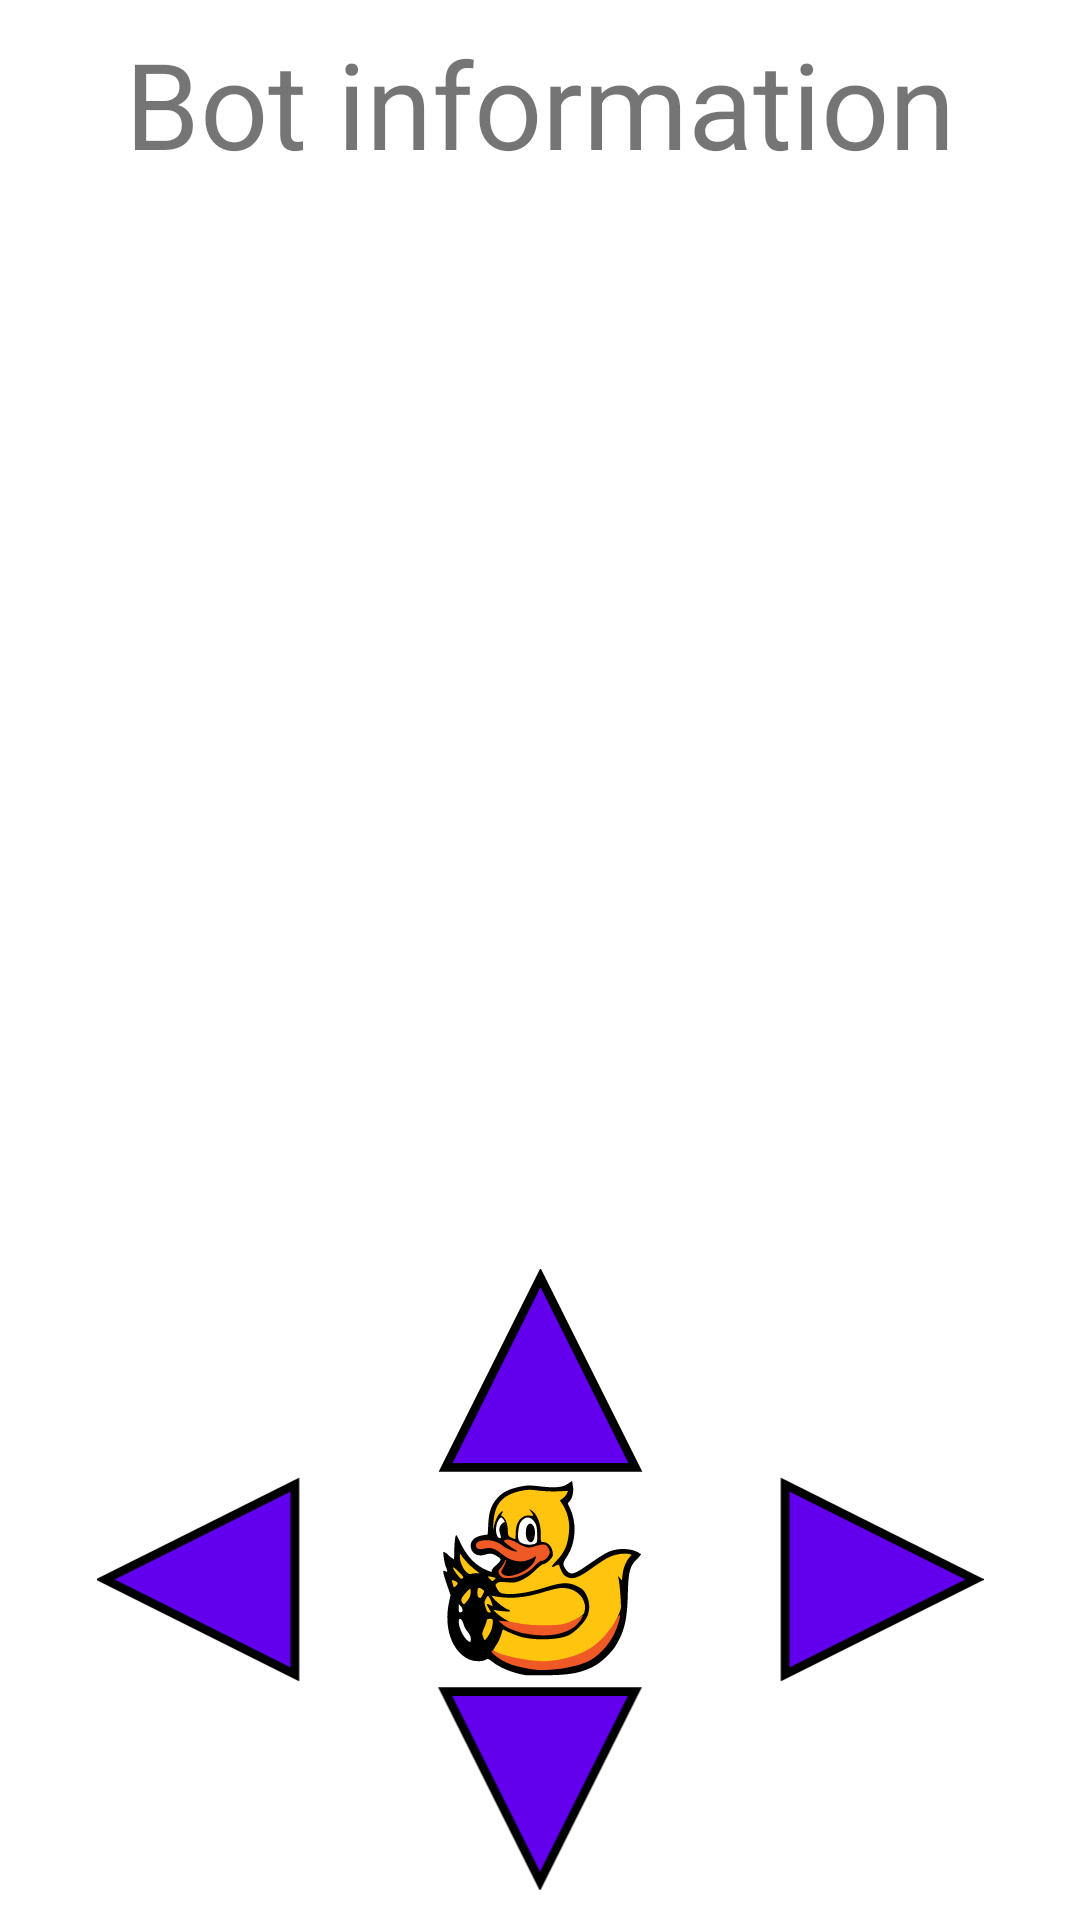

Icon bounding boxes for this 1080×1920 phone screenshot, format [x1,y1,x2,y2]:
FORWARD: [438,1269,643,1472]
